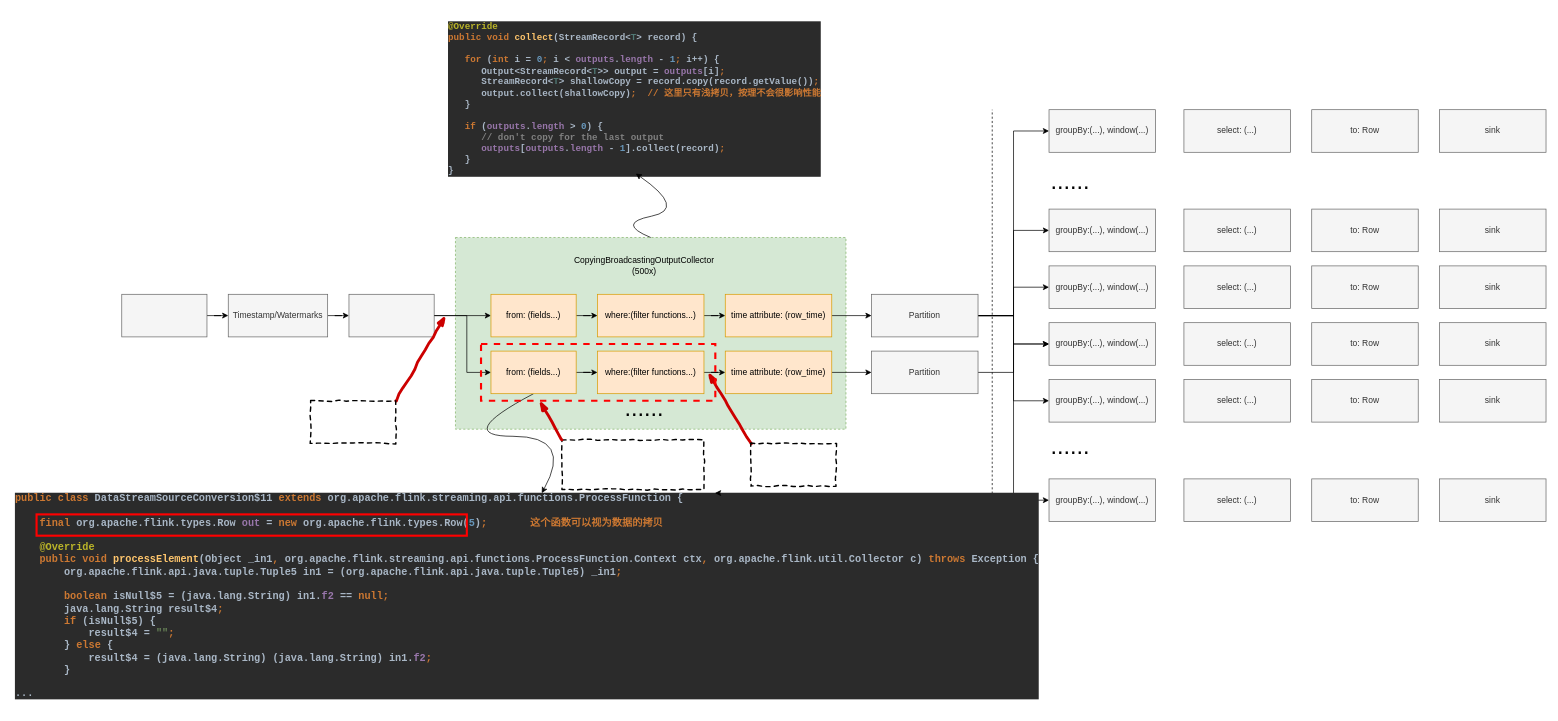
Some shapes in this 1558 by 721 pixel diagram are drawn without their labels. Here are the shapes that lost their labels. From the top down, the box of each, then its label:
(121, 294, 207, 337): CustomSource
(348, 294, 434, 337): StreamMap (map)
(310, 400, 396, 444): 前置过滤的话，数据量的reduce发生在这里
(561, 439, 704, 490): 导致两种场景下，出现性能差异的地方只可能是from和where翻译出来的两个processFunction，进一步说，我觉得是from中的拷贝行为导致的
(750, 442, 836, 486): 过滤条件写在每条规则中，则数据量的reduce发生在这里
